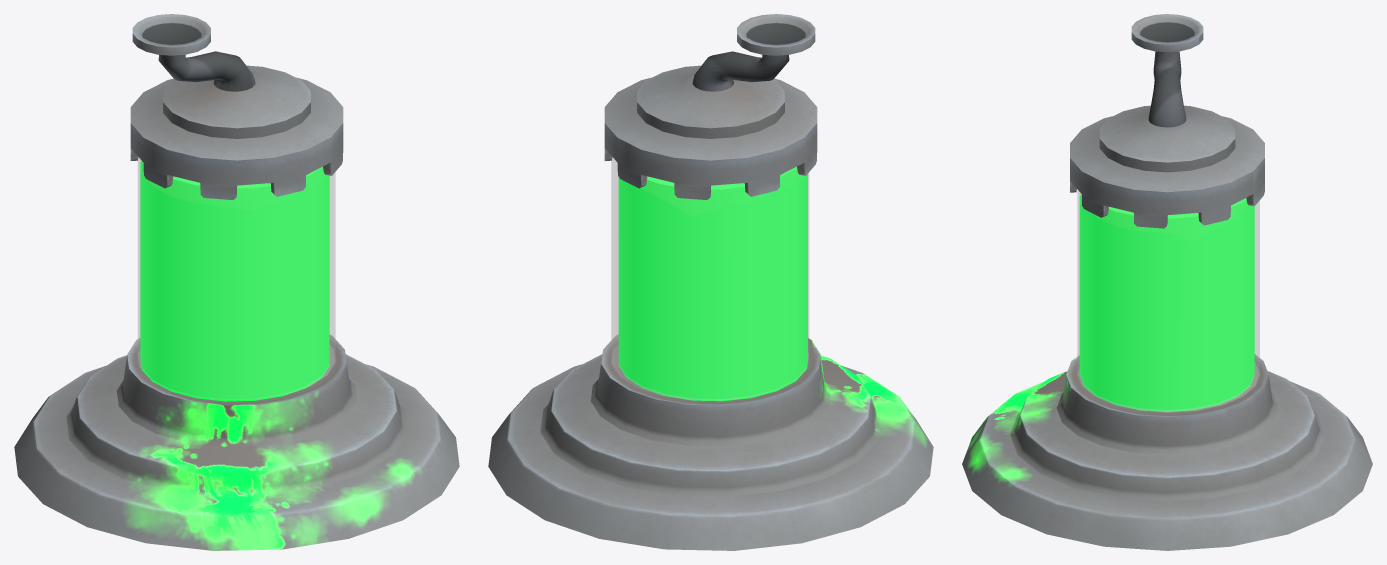
Rendered from capsule_clean.fbx.
The picture shows the model from 3 angles, left to right: view 1: azimuth 30°, elevation 25°; view 2: azimuth 150°, elevation 25°; view 3: azimuth 270°, elevation 25°; orthographic projection. The views are drawn at different scales.
Visible parts, largest first — view 1: Tank_bottom_Tank_0, pCylinder1_Glass_0.001, pCylinder22_ChemGlow_0, Tank_head_Tank_0; view 2: Tank_bottom_Tank_0, pCylinder1_Glass_0.001, pCylinder22_ChemGlow_0, Tank_head_Tank_0; view 3: Tank_bottom_Tank_0, pCylinder1_Glass_0.001, pCylinder22_ChemGlow_0, Tank_head_Tank_0.
Boxes of the visible parts, x1,y1,x2,y2 form: Tank_bottom_Tank_0: (14,335,459,550); pCylinder1_Glass_0.001: (138,157,335,399); pCylinder22_ChemGlow_0: (140,160,329,401); Tank_head_Tank_0: (130,14,343,199); Tank_bottom_Tank_0: (488,334,933,550); pCylinder1_Glass_0.001: (611,157,808,400); pCylinder22_ChemGlow_0: (618,166,807,401); Tank_head_Tank_0: (604,14,817,199); Tank_bottom_Tank_0: (962,354,1372,550); pCylinder1_Glass_0.001: (1077,190,1259,412); pCylinder22_ChemGlow_0: (1079,194,1254,411); Tank_head_Tank_0: (1070,14,1264,228).
Size of the model in its own units: 344 by 374 by 344.
